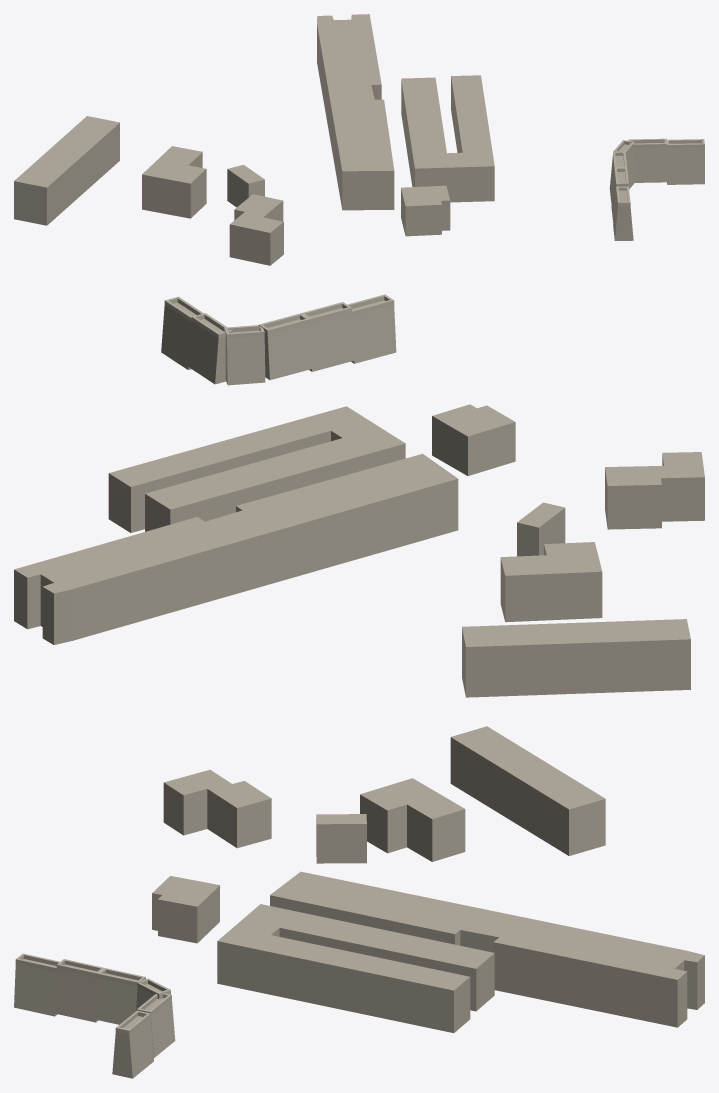
Rendered from bormla_64_30_collision.glb.
3 renders of one model, top to bottom at view 1: azimuth 30°, elevation 25°; view 2: azimuth 150°, elevation 25°; view 3: azimuth 270°, elevation 25°, orthographic. The views are drawn at different scales.
Visible parts, largest first — view 1: geometry_0; view 2: geometry_0; view 3: geometry_0.
Part boxes in pixels (x1,y1,x2,y2): geometry_0: (14, 14, 704, 265); geometry_0: (14, 294, 704, 697); geometry_0: (14, 726, 704, 1078).
Size of the model in its own units: 200 by 20.1 by 180.
